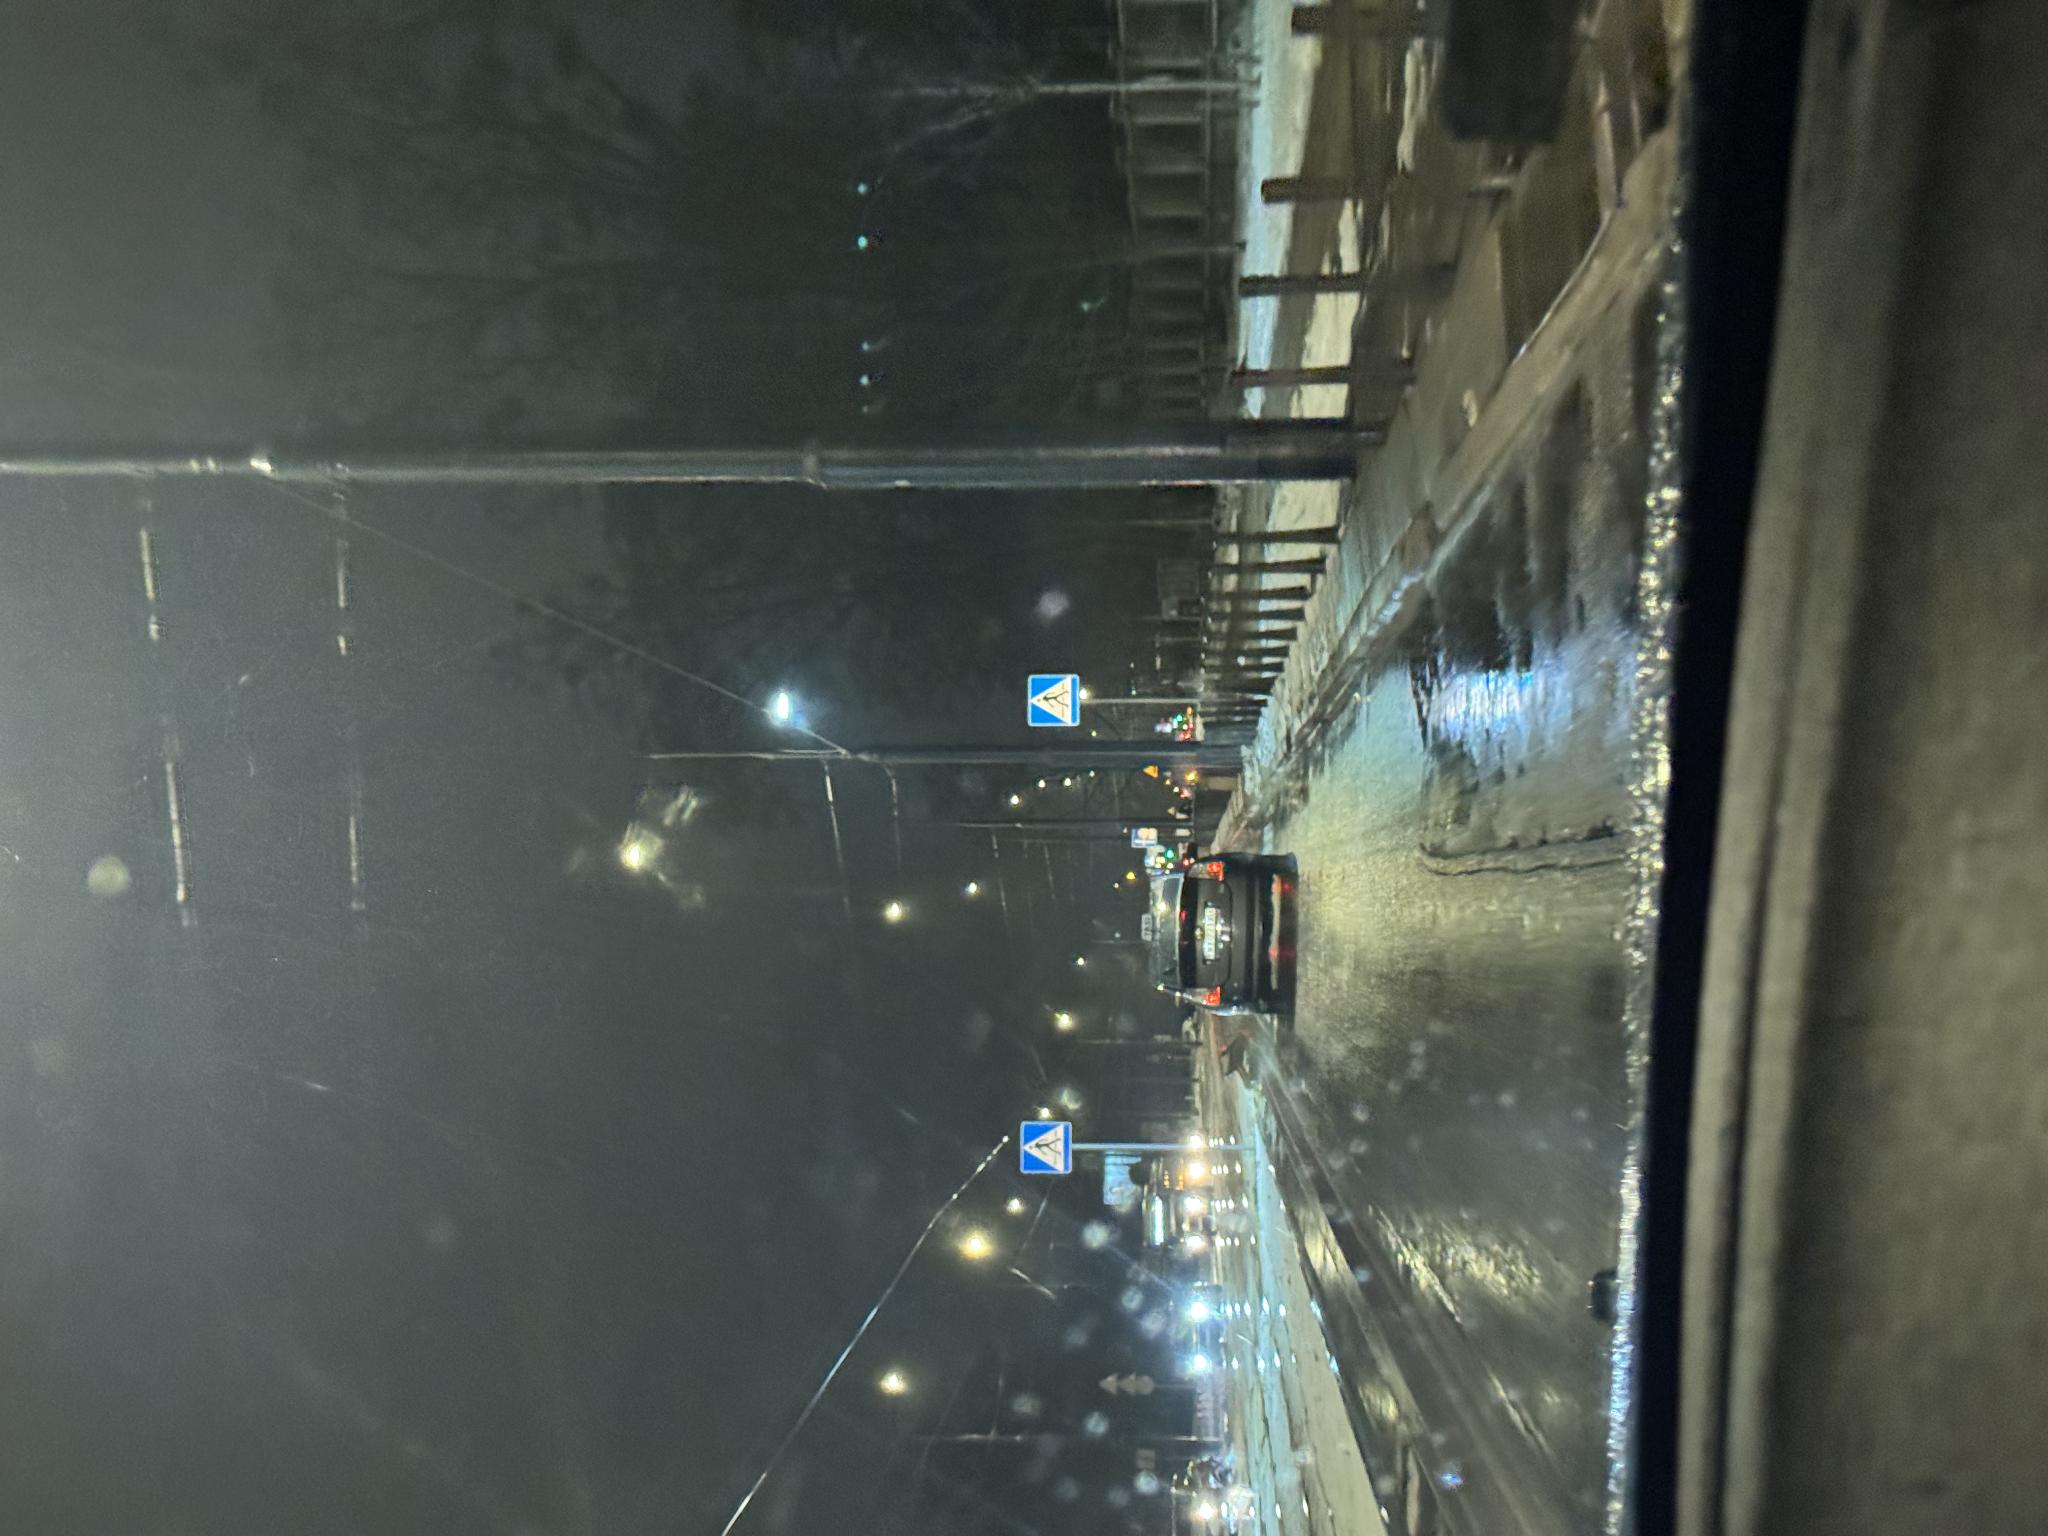information: (810, 1028, 863, 1081), (361, 1020, 414, 1073)
